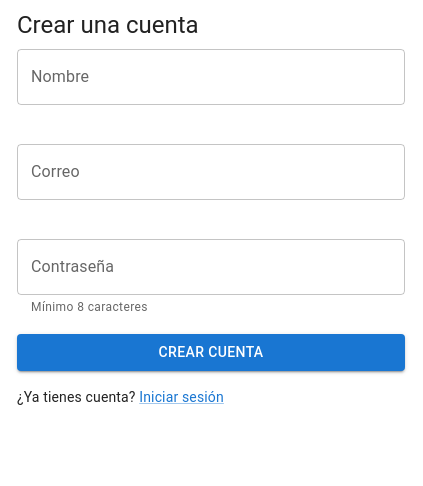
SignUpPage › enseña el error del servidor cuando el fallo es algo que el formulario no puede comprobar
The image size is (423, 486).
Type "Persona Registrada" into the field labelled "Nombre" at (211, 77), box [17, 49, 405, 105]
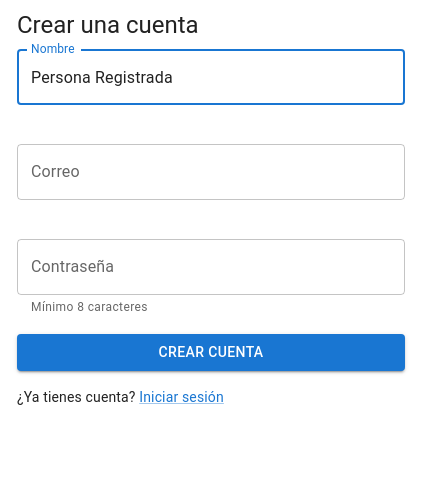
Type "nueva@ejemplo.com" into the field labelled "Correo" at (211, 172), box [17, 144, 405, 200]
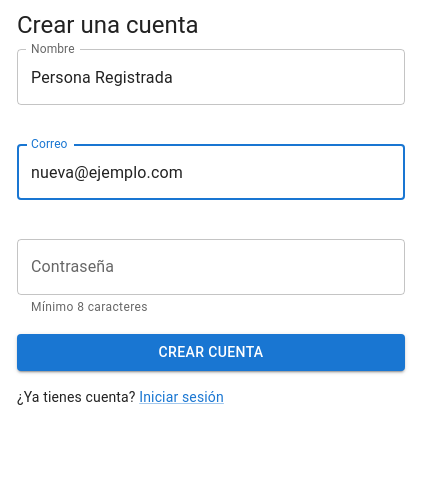
Type "BrumaCafe2026!" into the password field labelled "Contraseña" at (211, 267), box [17, 239, 405, 295]
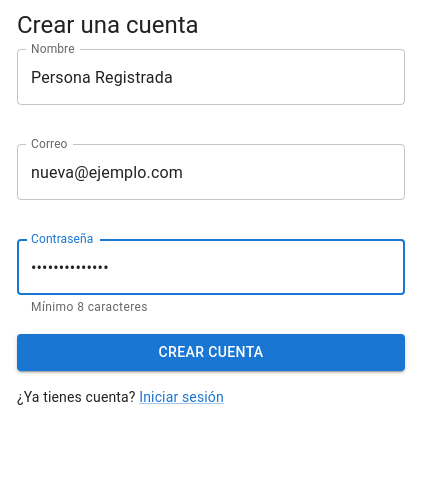
Click the button "Crear cuenta" at (211, 352), box [17, 334, 405, 371]
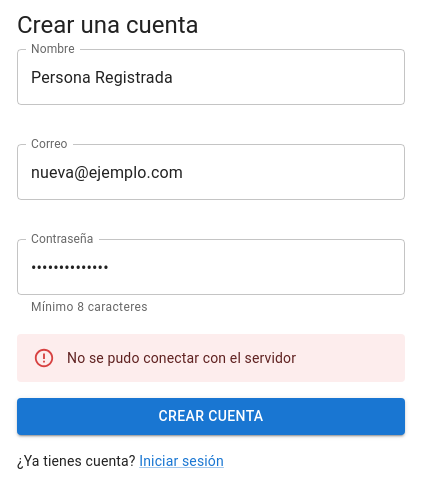
Expected: the text "No se pudo conectar con el servidor" is shown, [67, 350, 296, 366]
